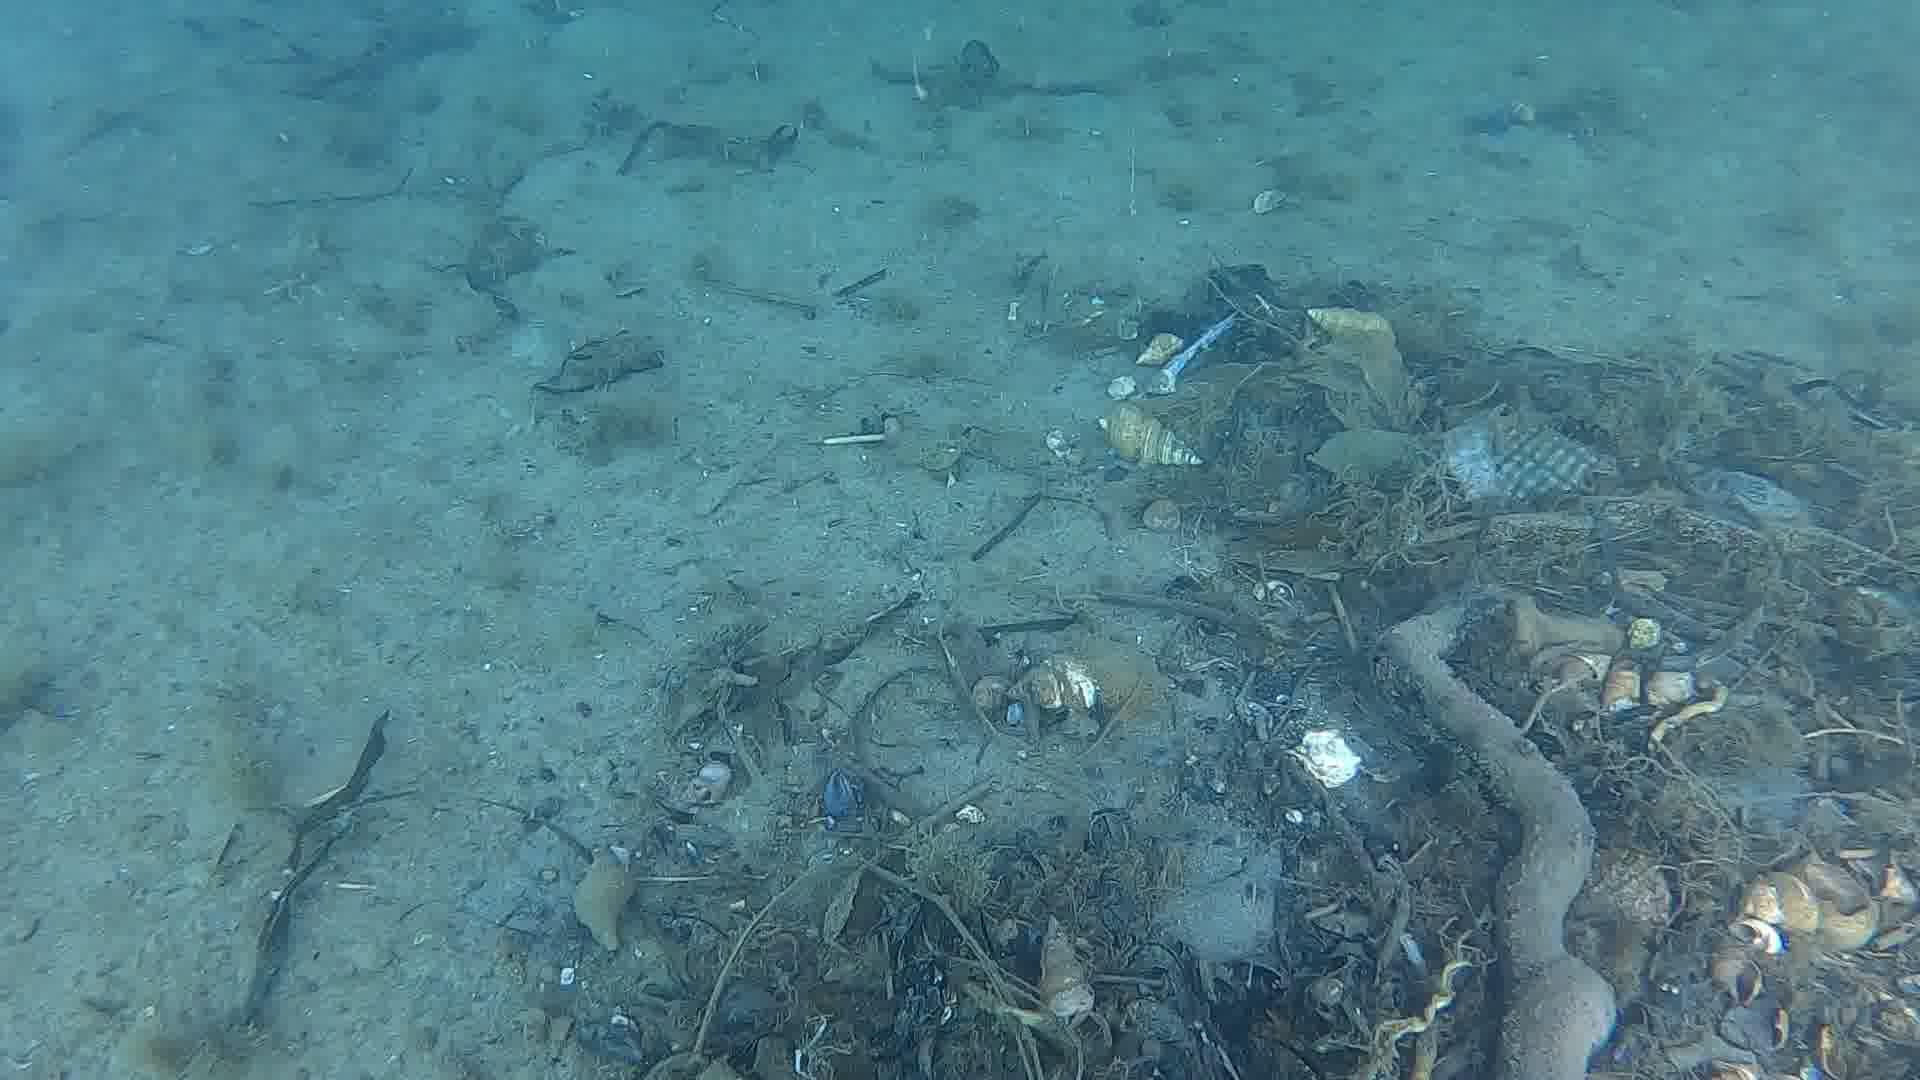wood: (1389, 604, 1622, 1080)
